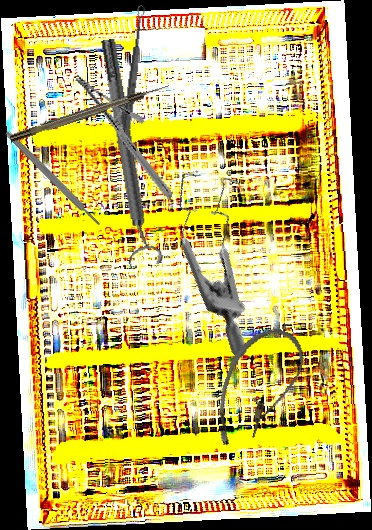Cannula: (205, 318, 311, 461)
Fixation Ring: (90, 36, 165, 269)
Hook Surgical: (8, 82, 171, 143)
Needle Holder: (46, 74, 202, 200)
Scalpel Handle: (3, 129, 103, 228)
Speculum: (120, 150, 327, 360)
Surgical Spoon: (120, 4, 147, 147)
